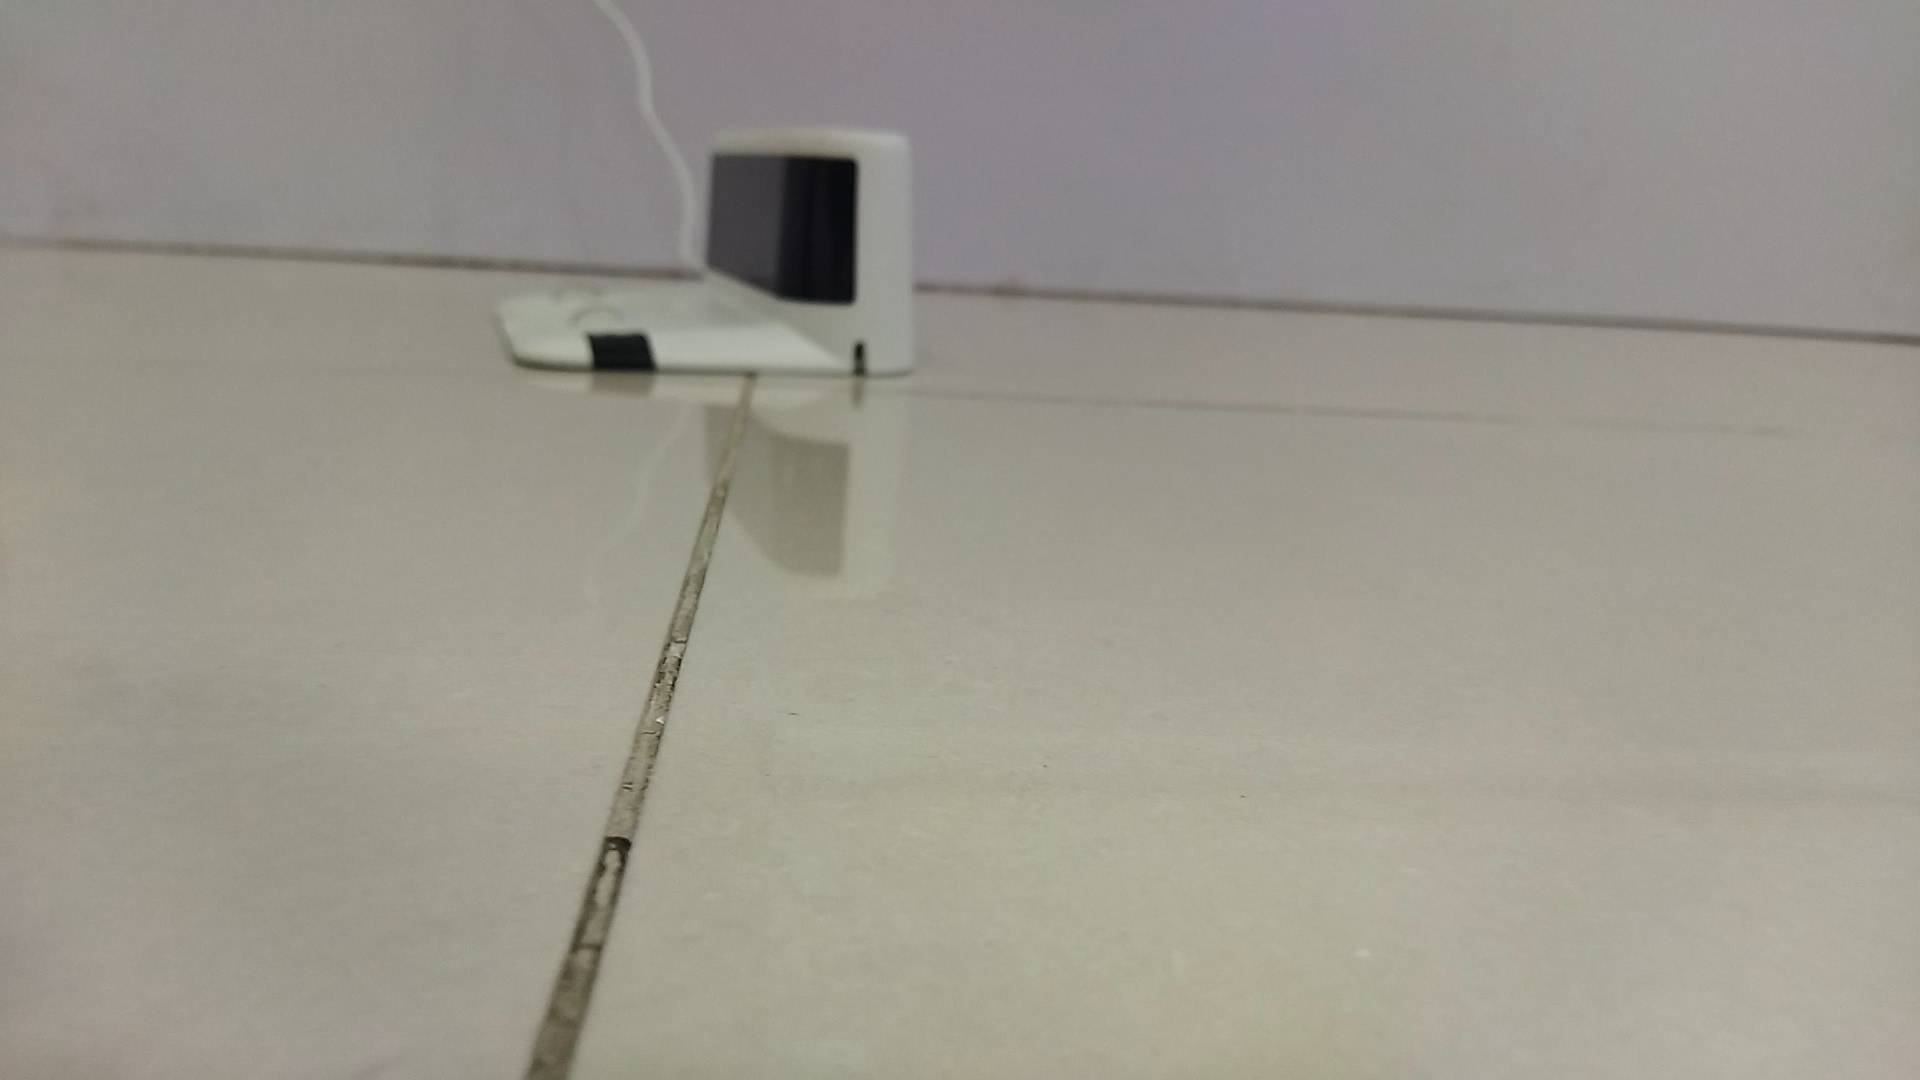recharge seat: (491, 129, 919, 378)
